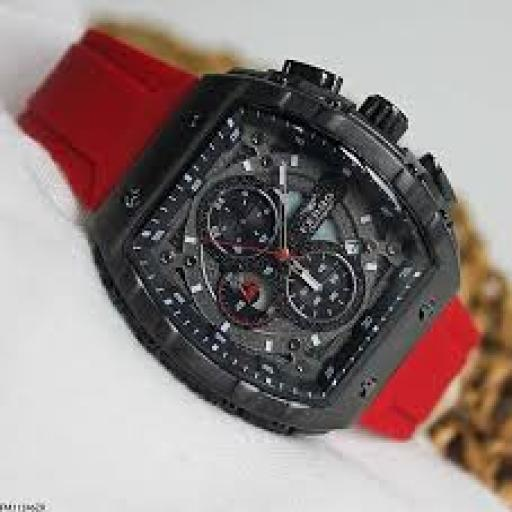KolSaati: (15, 14, 479, 456)
